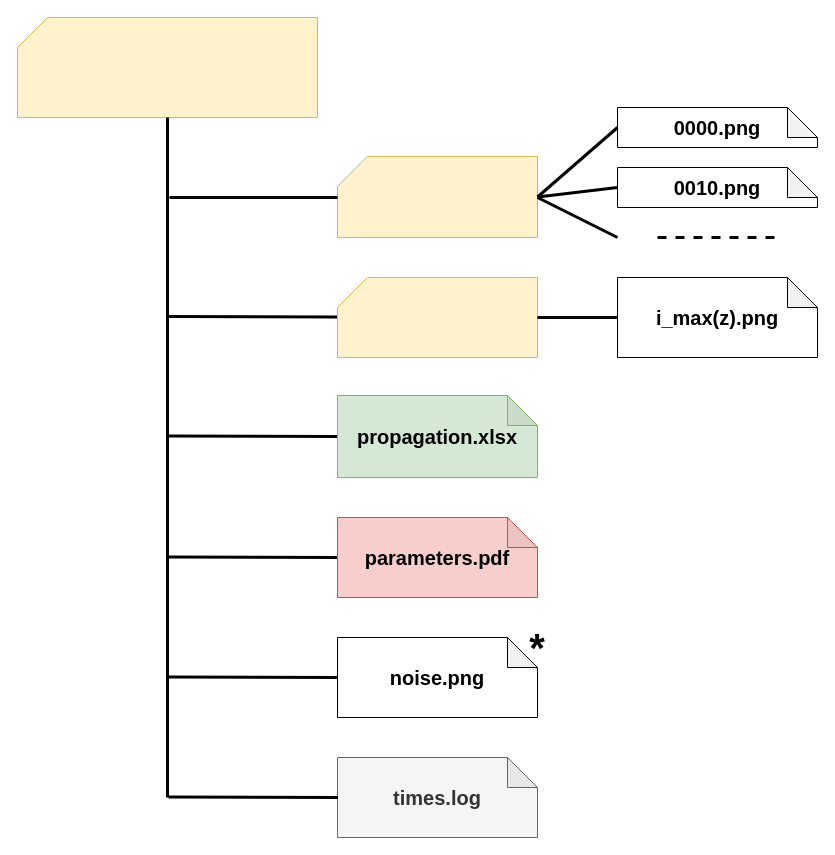
This 835x855 diagram has some shape labels left out. Here are the shapes that lost their labels. From the top down, the centre of each, then its label:
(x=167, y=67): <global_root_dir>/ <global_results_dir_name>/ <prefix>_<current_datetime>
(x=437, y=197): beam
(x=437, y=317): track
